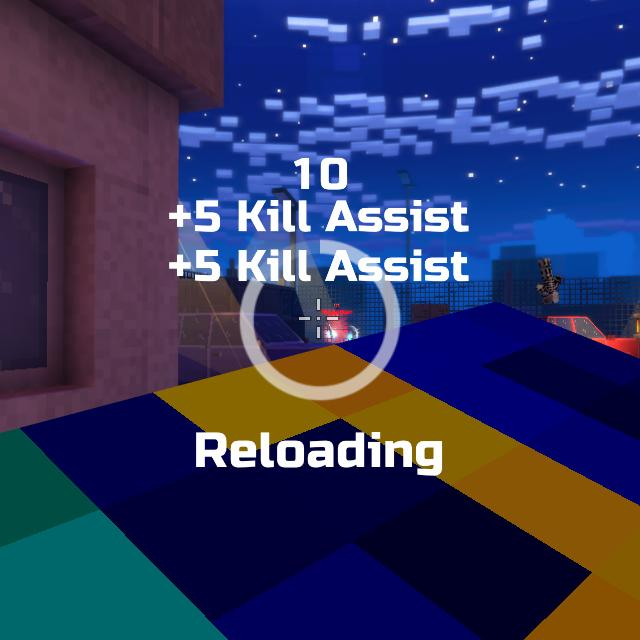Enemy: (326, 318, 347, 343)
